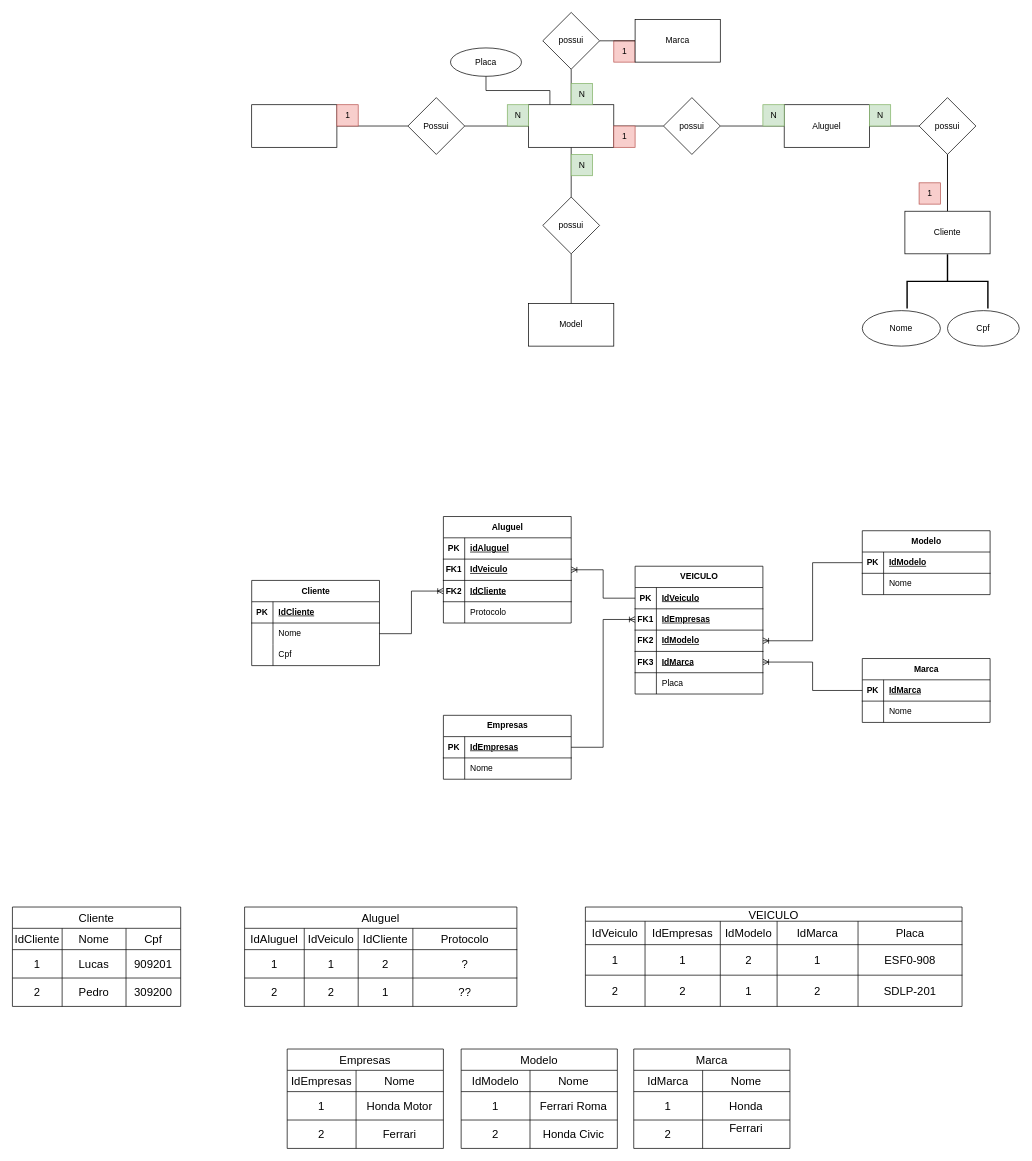
This 1032x1161 diagram has some shape labels left out. The centre of each missing label's shape, as x and y in pixels:
Empresa: (x=294, y=125)
Veiculos: (x=571, y=125)
